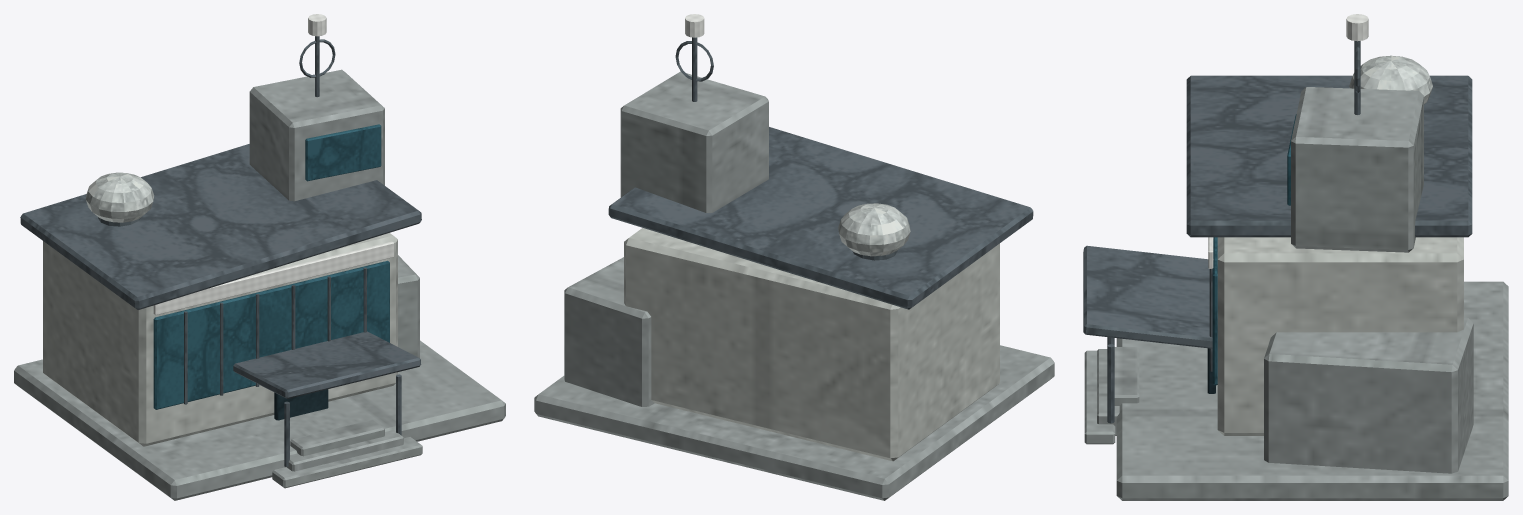
The model's file is edificio-center-e5-DMH0TYe-.glb.
3 views of the same model, side by side, from view 1: azimuth 30°, elevation 25°; view 2: azimuth 150°, elevation 25°; view 3: azimuth 270°, elevation 25° (orthographic). The views are drawn at different scales.
Parts seen in each view (by area): view 1: centro_e5_mamposteria, centro_e5_estructura, centro_e5_cubierta_detalles, centro_e5_team_color; view 2: centro_e5_mamposteria, centro_e5_estructura, centro_e5_cubierta_detalles; view 3: centro_e5_mamposteria, centro_e5_estructura, centro_e5_cubierta_detalles, centro_e5_team_color.
Boxes of the visible parts, x1,y1,x2,y2 form: centro_e5_mamposteria: [14, 69, 505, 500]; centro_e5_estructura: [20, 36, 421, 466]; centro_e5_cubierta_detalles: [85, 124, 389, 420]; centro_e5_team_color: [153, 14, 394, 315]; centro_e5_mamposteria: [534, 71, 1054, 500]; centro_e5_estructura: [608, 37, 1033, 309]; centro_e5_cubierta_detalles: [838, 203, 910, 256]; centro_e5_mamposteria: [1084, 87, 1508, 500]; centro_e5_estructura: [1083, 41, 1472, 423]; centro_e5_cubierta_detalles: [1207, 55, 1432, 393]; centro_e5_team_color: [1208, 14, 1368, 268].
Bounding box in the file's own units: 85.99 × 84.75 × 75.98.
4 materials, 4 textured.
